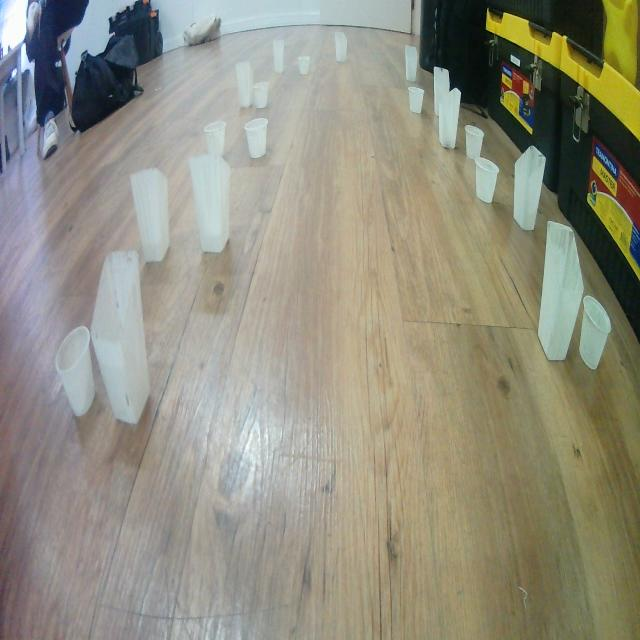erva_daninha: (90, 249, 150, 426), (537, 219, 584, 362), (188, 153, 231, 255), (130, 167, 170, 264), (513, 144, 546, 232), (438, 86, 462, 149), (434, 65, 451, 118), (235, 60, 253, 108), (404, 45, 418, 82), (272, 37, 285, 74), (334, 31, 348, 62)
planta: (55, 325, 95, 418), (578, 295, 612, 371), (474, 157, 500, 204), (244, 118, 268, 160), (204, 122, 226, 160), (464, 124, 485, 160), (252, 82, 269, 109), (408, 86, 424, 114), (298, 56, 310, 76)
